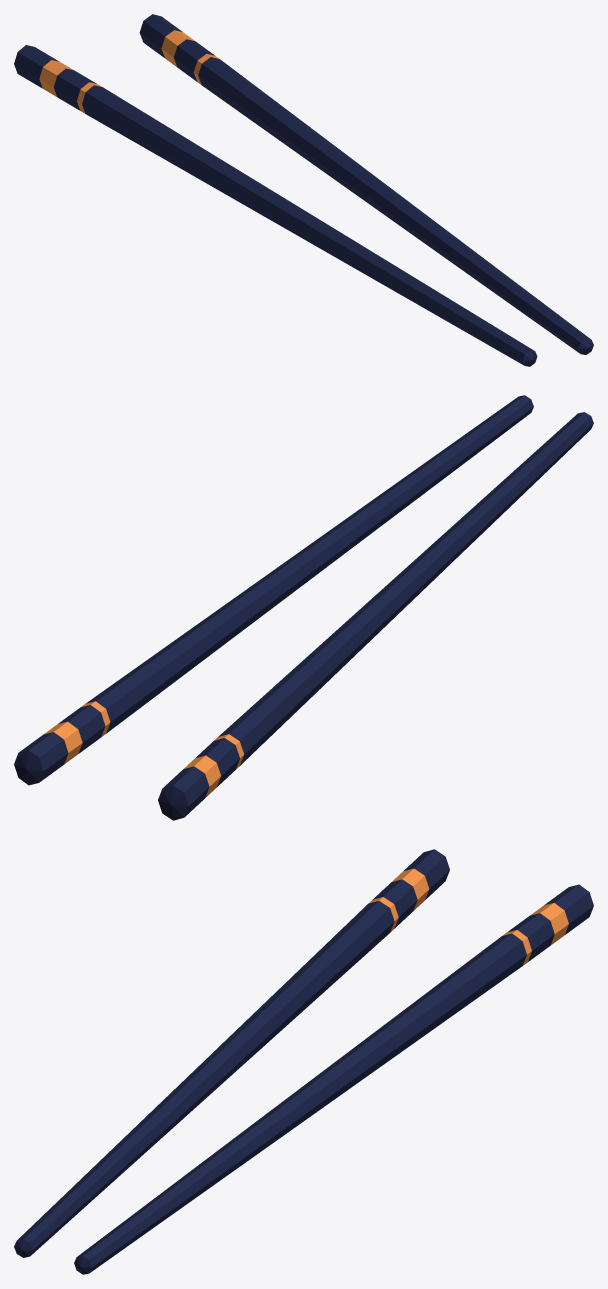
The model's file is Chopsticks.fbx.
3 renders of one model, top to bottom at view 1: azimuth 30°, elevation 25°; view 2: azimuth 150°, elevation 25°; view 3: azimuth 330°, elevation 25°, orthographic. The views are drawn at different scales.
Parts seen in each view (by area): view 1: Chopsticks; view 2: Chopsticks; view 3: Chopsticks.
Part boxes in pixels (x1,y1,x2,y2): Chopsticks: (14,14,593,366); Chopsticks: (14,395,593,820); Chopsticks: (14,849,593,1274).
Size of the model in its own units: 1.71 by 8.5 by 0.3299.
